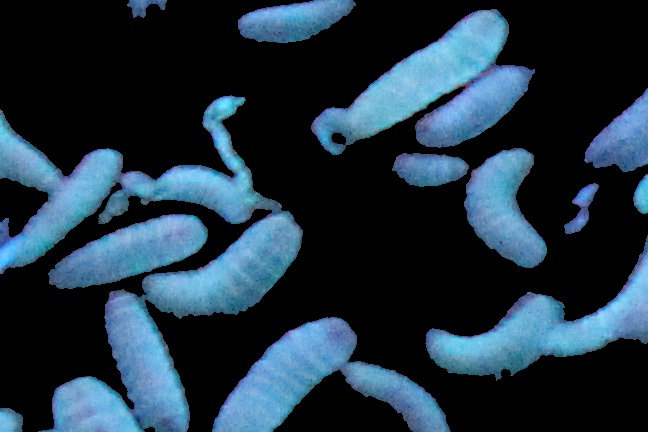larvae: (336, 10, 510, 139), (212, 315, 357, 432), (144, 213, 301, 317), (2, 146, 123, 271), (101, 287, 195, 431), (544, 234, 648, 363), (45, 212, 209, 290), (426, 292, 566, 381), (408, 64, 535, 157), (462, 148, 548, 271), (335, 354, 450, 432), (235, 1, 365, 51), (149, 164, 254, 222), (43, 370, 132, 432), (1, 107, 61, 192), (365, 150, 470, 187)
